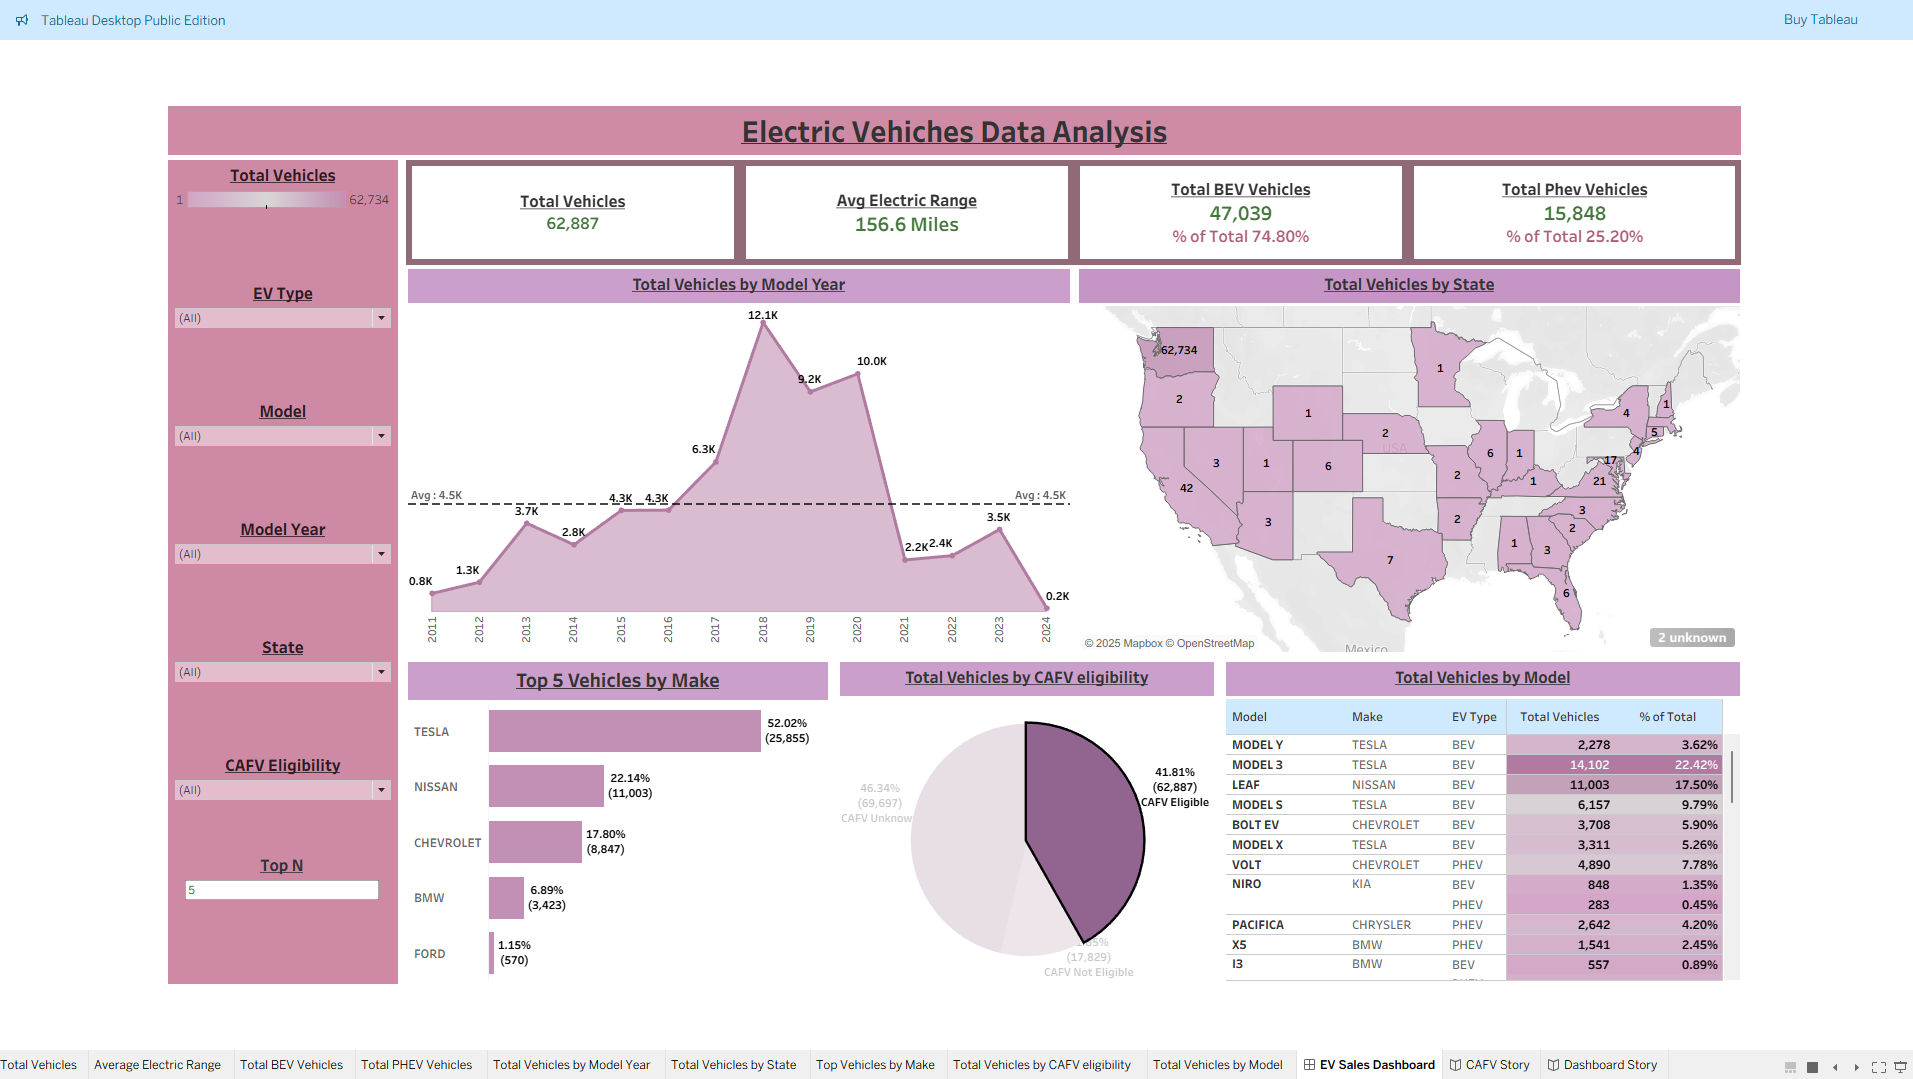

The dashboard page shown, as its layout file describes it:
{"tool":"tableau","page":{"name":"EV Sales Dashboard","canvas":[1600,900],"ordinal":0},"visuals":[{"type":"title","box":[8,8,1584,55]},{"type":"legend","title":"Total Vehicles by State","param":"[federated.1fu6j5k0ea1gex14bd44g10pfubm].[usr:Calculation_551691011456270336:qk]","box":[14,65,230,118]},{"type":"worksheet","title":"Total Vehicles","mark":"Automatic","box":[252,65,334,105]},{"type":"worksheet","title":"Average Electric Range","mark":"Automatic","box":[586,65,334,105]},{"type":"worksheet","title":"Total BEV Vehicles","mark":"Automatic","box":[920,65,334,105]},{"type":"worksheet","title":"Total PHEV Vehicles ","mark":"Automatic","box":[1254,65,333,105]},{"type":"worksheet","title":"Total Vehicles by Model Year","mark":"Area","rows":["Calculation_551691011456270336","Calculation_551691011456270336"],"cols":["Model Year"],"box":[248,170,672,391]},{"type":"worksheet","title":"Total Vehicles by State","mark":"Multipolygon","box":[920,170,672,391]},{"type":"filter","title":"Total Vehicles by Model Year","param":"[federated.1fu6j5k0ea1gex14bd44g10pfubm].[none:Electric Vehicle Type:nk]","box":[14,183,230,118]},{"type":"filter","title":"Total Vehicles by Model Year","param":"[federated.1fu6j5k0ea1gex14bd44g10pfubm].[none:Model:nk]","box":[14,301,230,118]},{"type":"filter","title":"Total Vehicles by Model Year","param":"[federated.1fu6j5k0ea1gex14bd44g10pfubm].[none:Model Year:ok]","box":[14,419,230,118]},{"type":"filter","title":"Total Vehicles by Model Year","param":"[federated.1fu6j5k0ea1gex14bd44g10pfubm].[none:State:nk]","box":[14,537,230,118]},{"type":"worksheet","title":"Top Vehicles by Make","mark":"Automatic","rows":["Make"],"cols":["Calculation_551691011456270336"],"box":[248,561,432,331]},{"type":"worksheet","title":"Total Vehicles by CAFV eligibility","mark":"Pie","rows":["Calculation_551691011471282184","Calculation_551691011471282184"],"box":[680,561,386,331]},{"type":"worksheet","title":"Total Vehicles by Model","mark":"Square","rows":["Model","Make","Electric Vehicle Type"],"box":[1066,561,526,331]},{"type":"filter","title":"Total Vehicles by Model Year","param":"[federated.1fu6j5k0ea1gex14bd44g10pfubm].[none:Clean Alternative Fuel Vehicle (C","box":[14,655,230,117]},{"type":"parameter","param":"[Parameters].[Parameter 1]","box":[28,759,200,80]},{"type":"blank","box":[14,772,230,117]}]}

Visuals, with their boxes on the page's 1600x900 design canvas (x1, y1, x2, y2). These are canvas units, not pixel positions in the 1913x1079 screenshot, which may show the page scaled, cropped or inside an application window:
title: bbox(8, 8, 1592, 63)
"Total Vehicles by State" legend: bbox(14, 65, 244, 183)
"Total Vehicles" worksheet: bbox(252, 65, 586, 170)
"Average Electric Range" worksheet: bbox(586, 65, 920, 170)
"Total BEV Vehicles" worksheet: bbox(920, 65, 1254, 170)
"Total PHEV Vehicles " worksheet: bbox(1254, 65, 1587, 170)
"Total Vehicles by Model Year" worksheet (Area marks): bbox(248, 170, 920, 561)
"Total Vehicles by State" worksheet (Multipolygon marks): bbox(920, 170, 1592, 561)
"Total Vehicles by Model Year" filter: bbox(14, 183, 244, 301)
"Total Vehicles by Model Year" filter: bbox(14, 301, 244, 419)
"Total Vehicles by Model Year" filter: bbox(14, 419, 244, 537)
"Total Vehicles by Model Year" filter: bbox(14, 537, 244, 655)
"Top Vehicles by Make" worksheet: bbox(248, 561, 680, 892)
"Total Vehicles by CAFV eligibility" worksheet (Pie marks): bbox(680, 561, 1066, 892)
"Total Vehicles by Model" worksheet (Square marks): bbox(1066, 561, 1592, 892)
"Total Vehicles by Model Year" filter: bbox(14, 655, 244, 772)
parameter: bbox(28, 759, 228, 839)
blank: bbox(14, 772, 244, 889)
